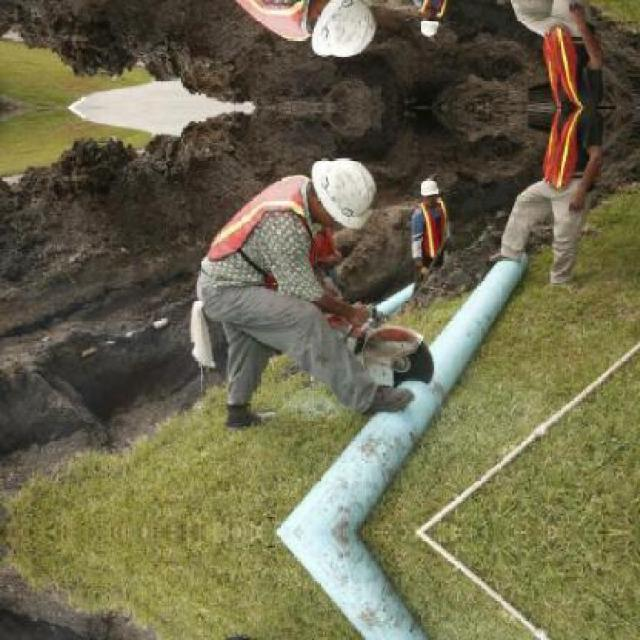Reflective-Jacket: (194, 172, 321, 270), (403, 197, 457, 271)
Safety-Helmet: (304, 150, 388, 232), (411, 171, 446, 203)
